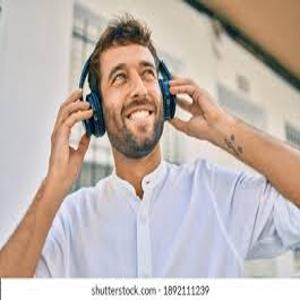Headphones: (78, 34, 178, 137)
